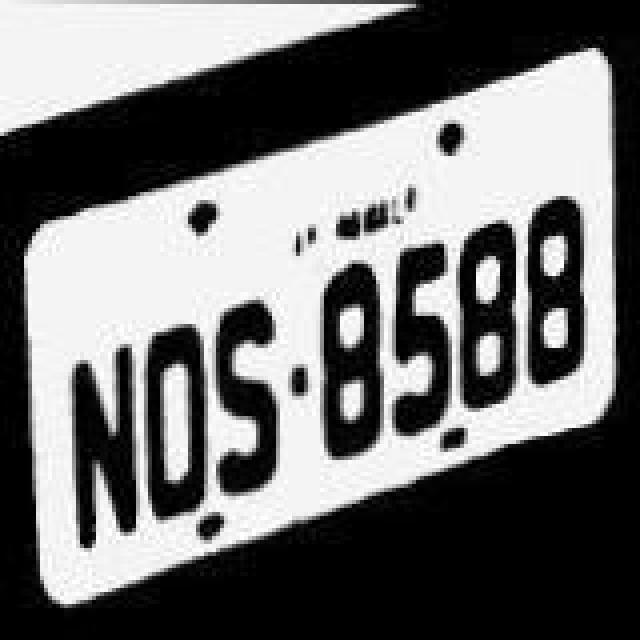5: (386, 232, 454, 436)
8: (518, 182, 594, 418), (312, 252, 392, 472), (452, 204, 524, 424)
N: (66, 330, 146, 550)
O: (138, 286, 214, 518)
S: (210, 286, 294, 502)
